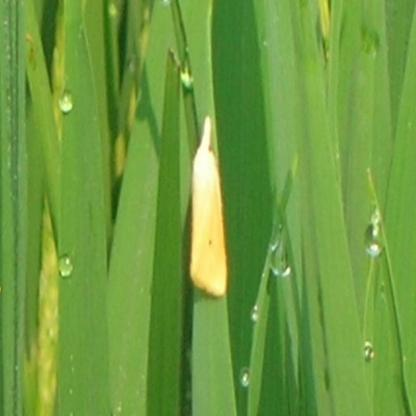stem-borer: (187, 114, 229, 298)
